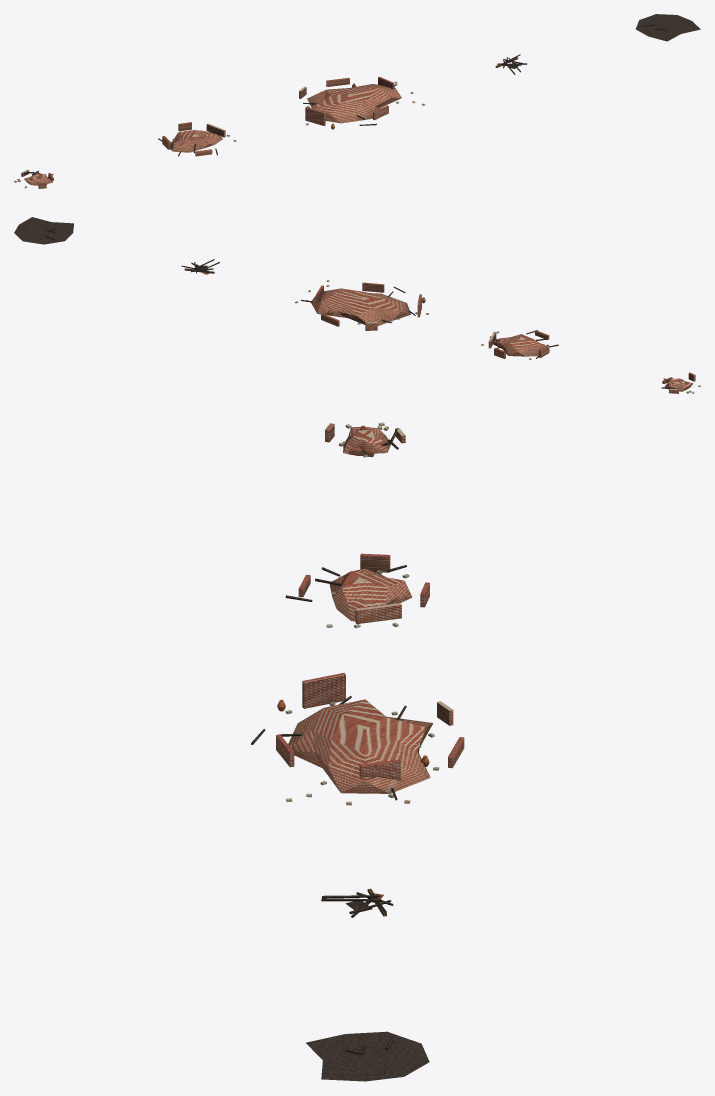
File: ruins-gunpowder.glb
3 renders of one model, top to bottom at view 1: azimuth 30°, elevation 25°; view 2: azimuth 150°, elevation 25°; view 3: azimuth 270°, elevation 25°, orthographic. The views are drawn at different scales.
Visible parts, largest first — view 1: LOD0.002, LOD0.001, LOD0.004, LOD0; view 2: LOD0.002, LOD0.001, LOD0.004, LOD0; view 3: LOD0.002, LOD0.004, LOD0.001, LOD0.
Part boxes in pixels (x1,y1,x2,y2): LOD0.002: (299, 76, 425, 129); LOD0.001: (158, 122, 236, 156); LOD0.004: (635, 14, 700, 41); LOD0: (14, 169, 53, 188); LOD0.002: (295, 280, 428, 330); LOD0.001: (481, 330, 558, 359); LOD0.004: (14, 217, 73, 244); LOD0: (661, 372, 700, 393); LOD0.002: (251, 673, 464, 805); LOD0.004: (306, 1031, 429, 1081); LOD0.001: (285, 553, 429, 628); LOD0: (325, 422, 405, 457).
Size of what is drawn, in the model's own units: 12.84 by 0.2481 by 1.76.
1 material, 1 textured.
